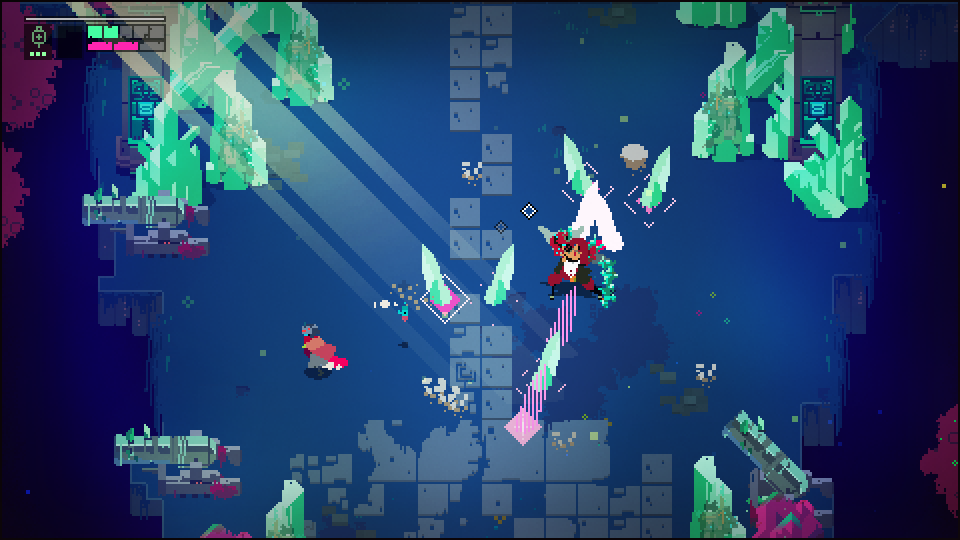hanged_crys: (482, 237, 517, 311), (519, 362, 550, 440), (418, 242, 452, 311), (643, 144, 674, 215), (561, 128, 591, 192), (531, 334, 558, 388)
hanged_man: (536, 226, 622, 303)
player: (298, 325, 336, 384)
